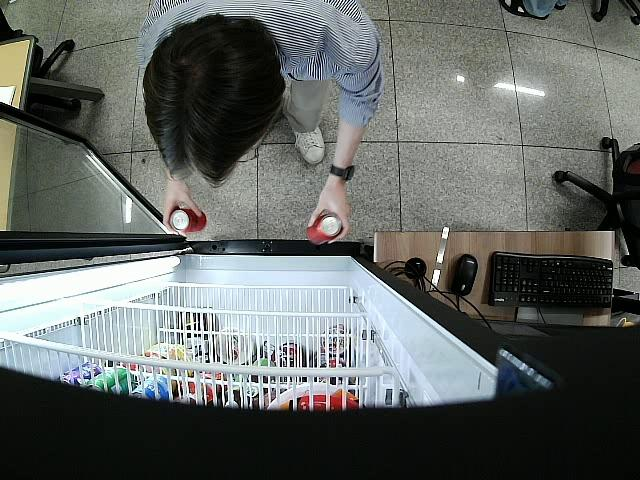00_hand: (162, 183, 203, 238), (307, 193, 351, 244)
11_cocaColaZero: (305, 212, 341, 243), (168, 208, 205, 232)
